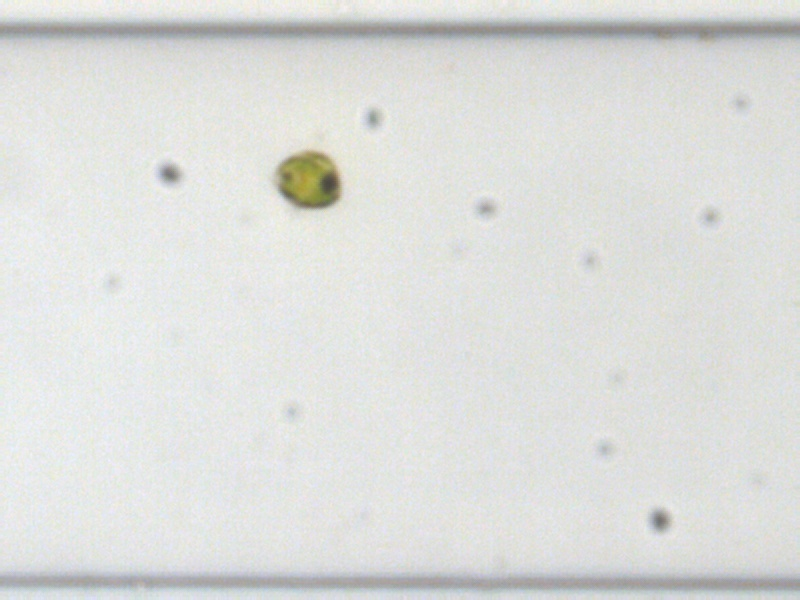Platymonas: (272, 151, 345, 209)
